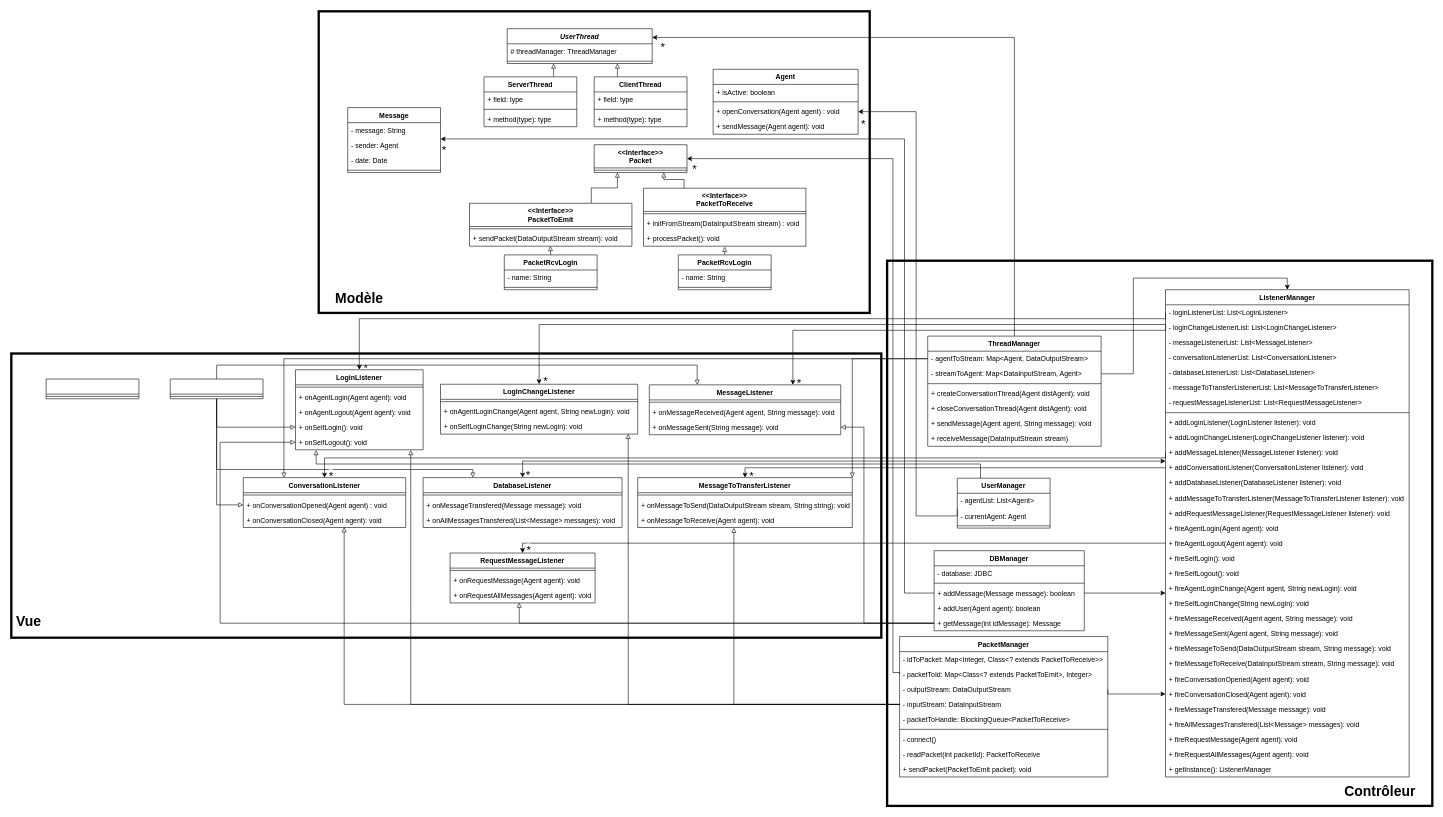
Some shapes in this 1443 by 817 pixel diagram are drawn without their labels. The centre of each missing label's shape, as x and y in pixels:
ConversationFrame: point (216, 388)
LoginFrame: point (92, 388)
